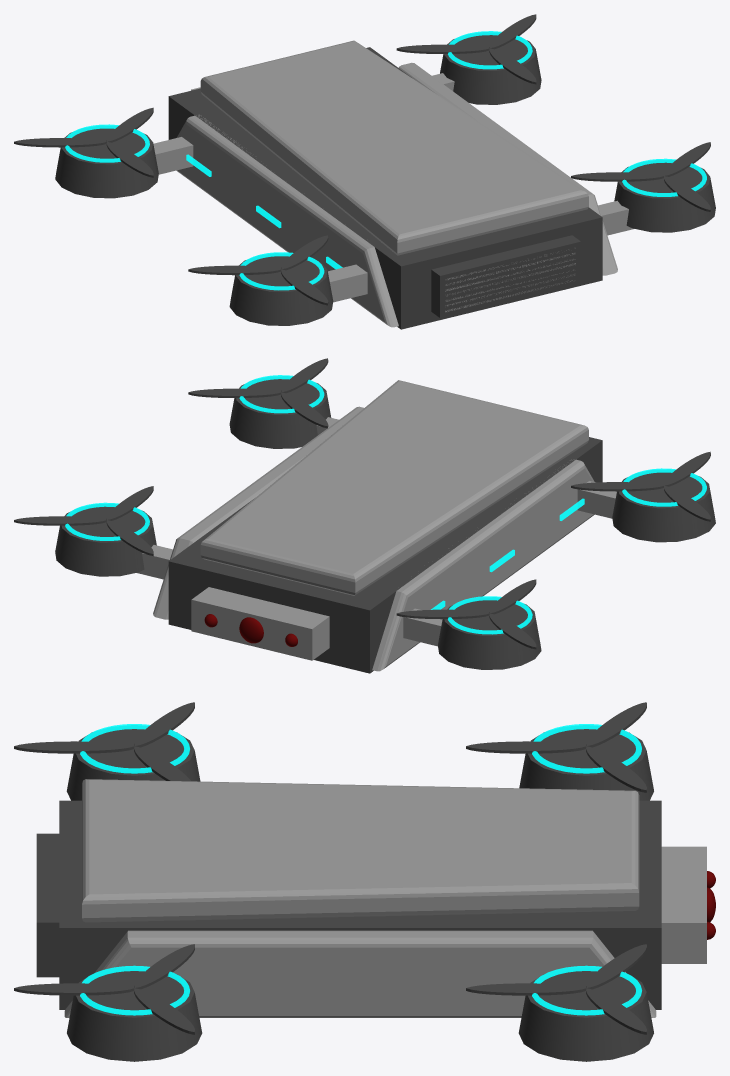
File: aaa-grade-assault-drone-rectangular-body-with-cyber-inlays-in-high-fidelity.gltf
3 views of the same model, one above another, from view 1: azimuth 30°, elevation 25°; view 2: azimuth 150°, elevation 25°; view 3: azimuth 270°, elevation 25° (orthographic). The views are drawn at different scales.
Size of the model in its own units: 5.19 by 1.08 by 4.66.
